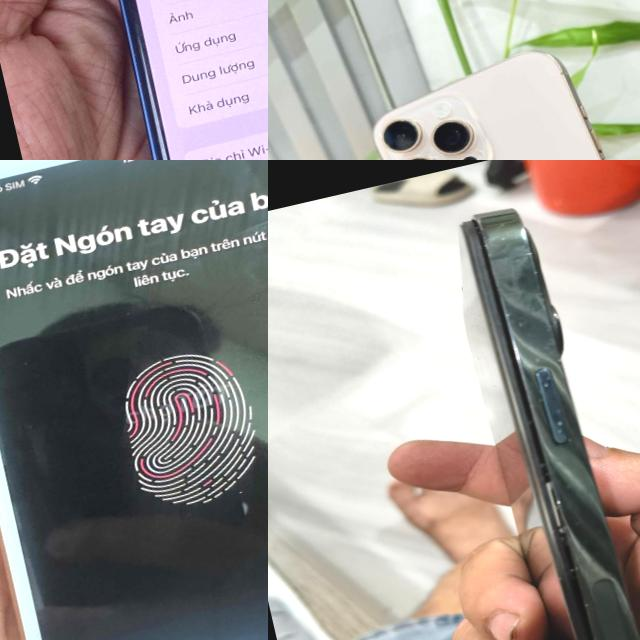gen_12_13: (423, 186, 640, 640), (37, 0, 268, 160)
gen_16: (374, 52, 604, 160)
gen_7_8: (0, 160, 268, 640)
scratch: (462, 196, 562, 367), (542, 475, 640, 640), (507, 362, 591, 469), (230, 490, 252, 520)
